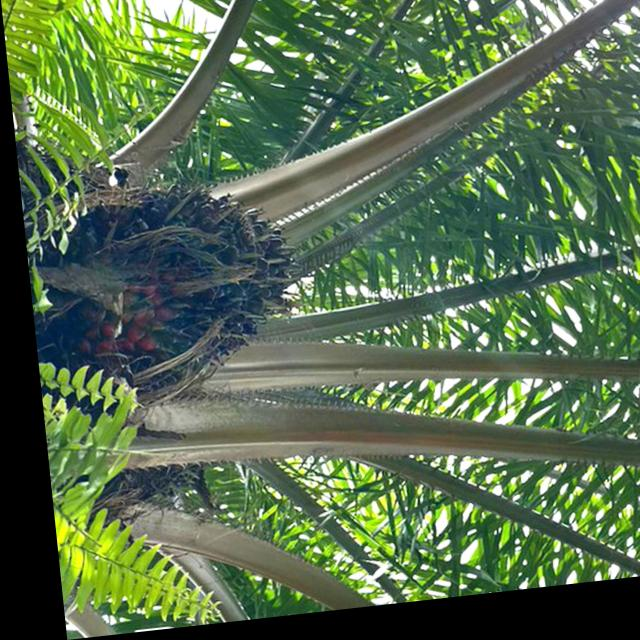ripe: (21, 166, 312, 414)
